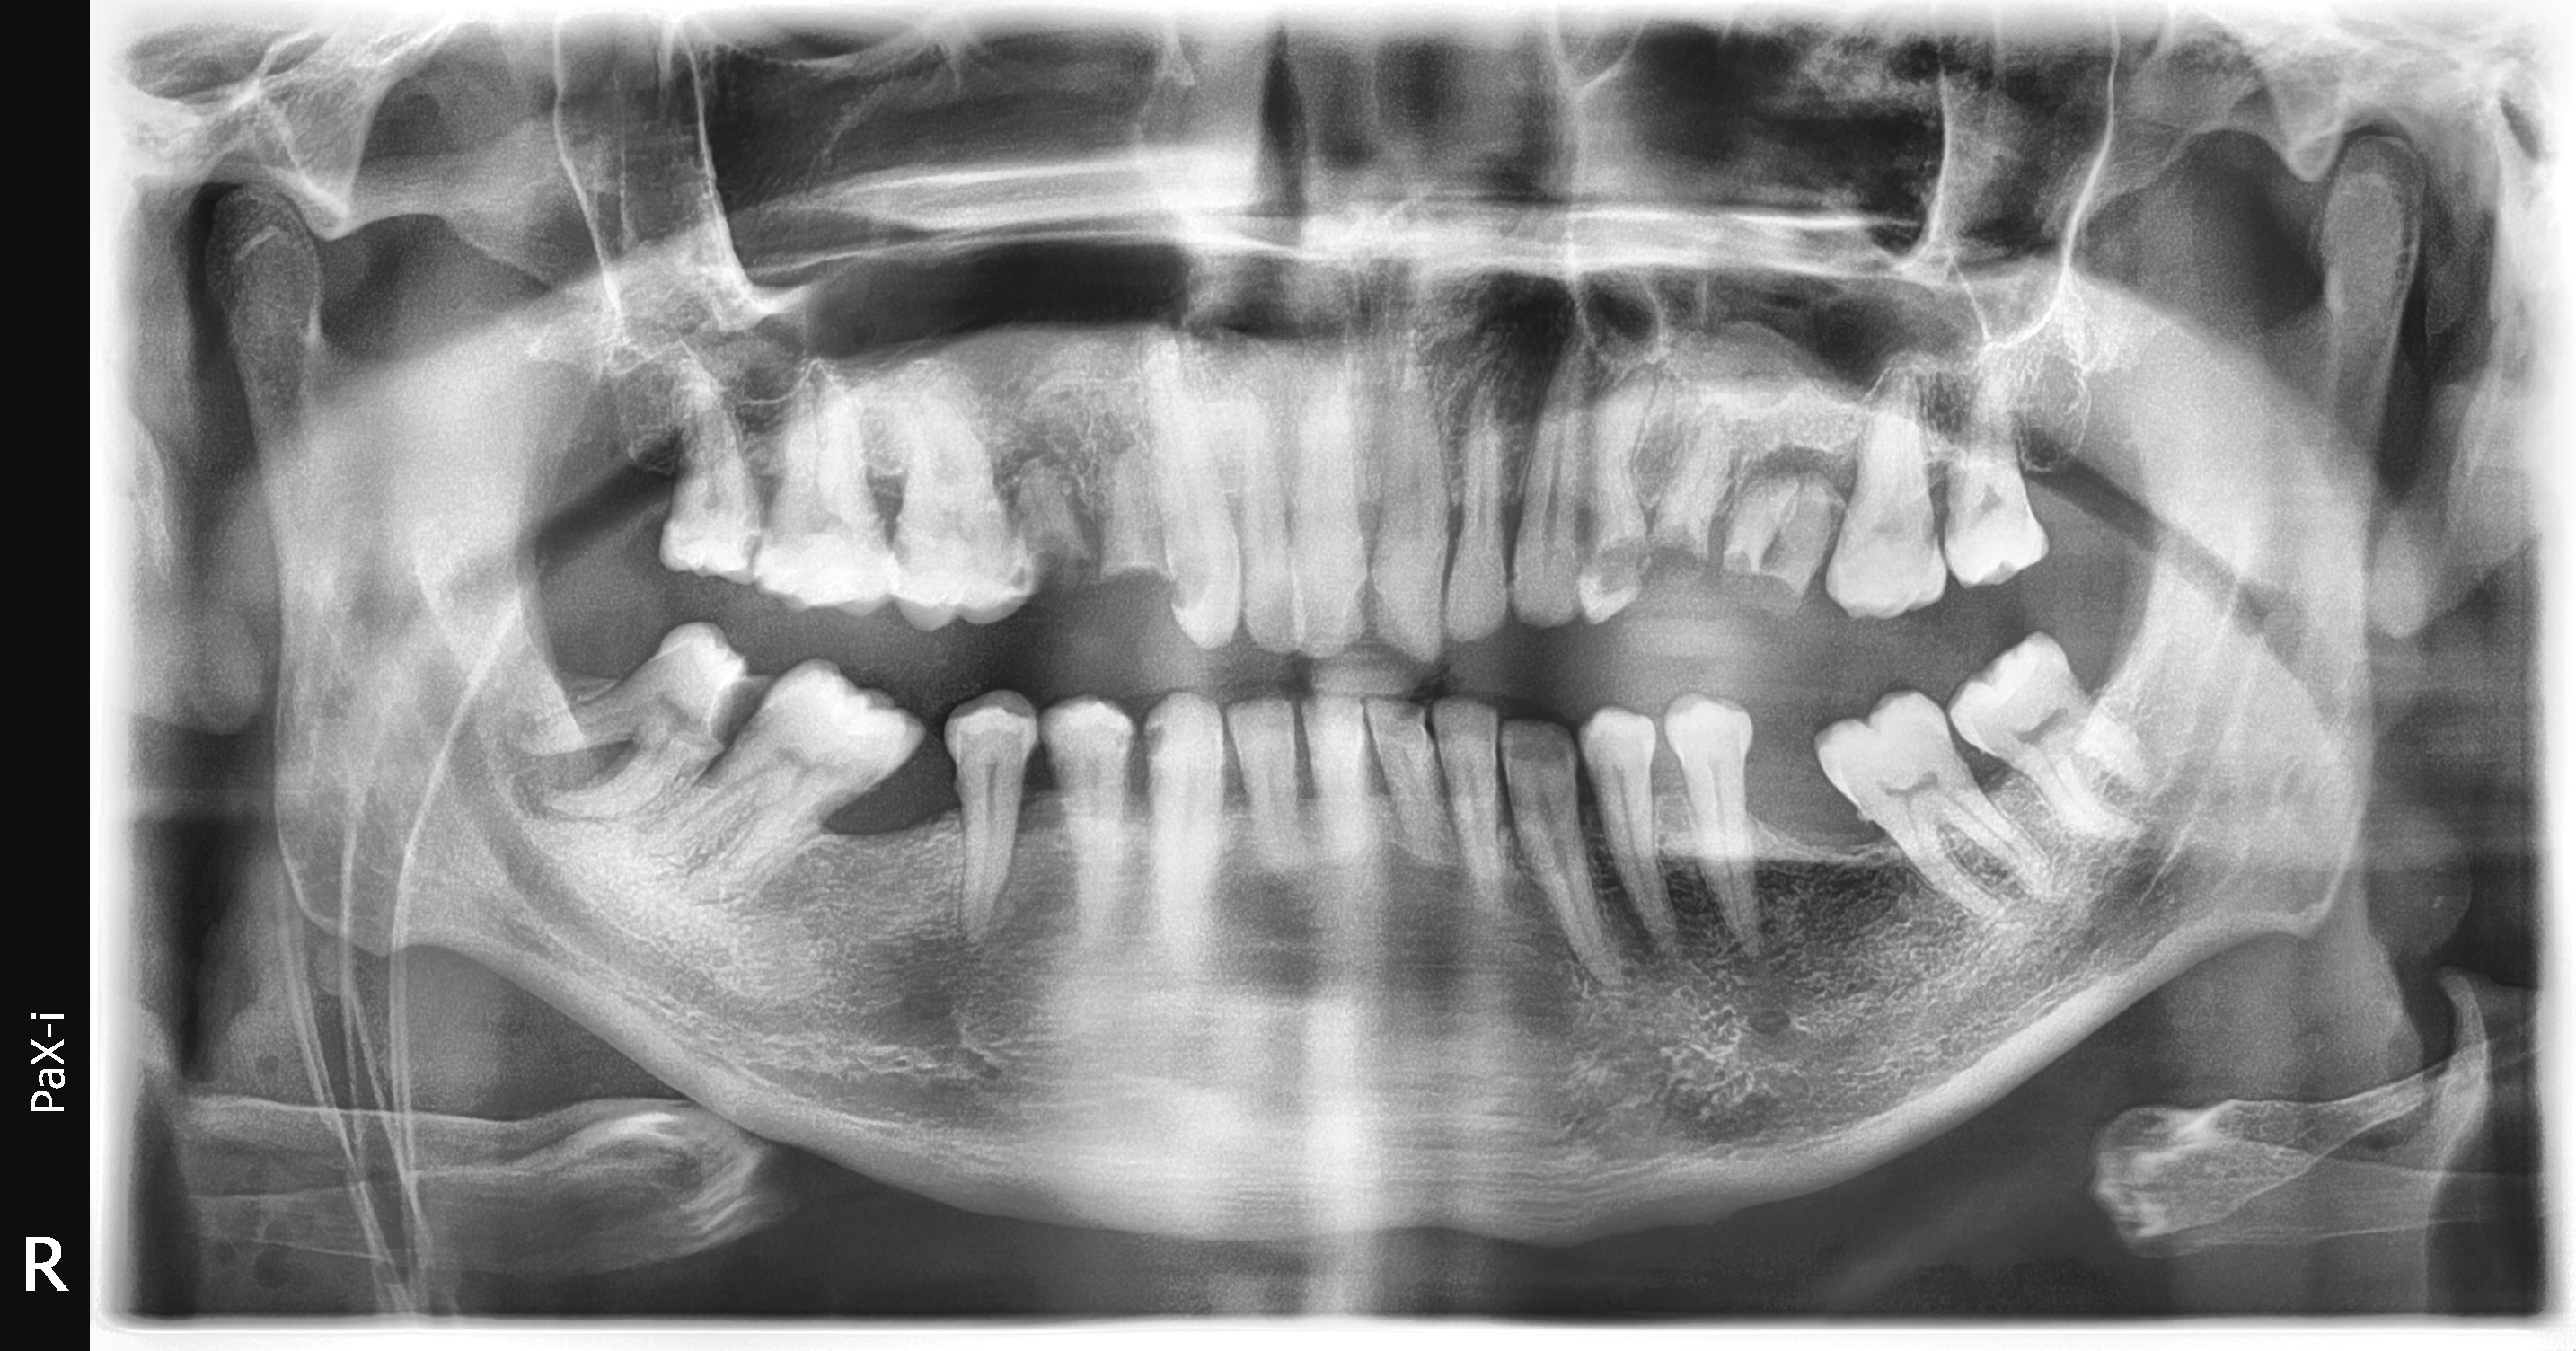API: (475, 762, 579, 845), (475, 687, 549, 767)
BON: (1901, 436, 1966, 549), (840, 451, 929, 526), (721, 445, 794, 530)
CAR: (699, 630, 787, 770), (1573, 523, 1658, 608), (850, 516, 940, 579), (1119, 698, 1203, 763), (1034, 743, 1089, 823), (1327, 564, 1385, 632), (1368, 557, 1409, 627)
FUR: (578, 704, 661, 782)
ROT: (1641, 390, 1746, 576), (1084, 412, 1176, 605), (1000, 440, 1102, 603), (1712, 436, 1816, 593), (1751, 465, 1852, 624)
